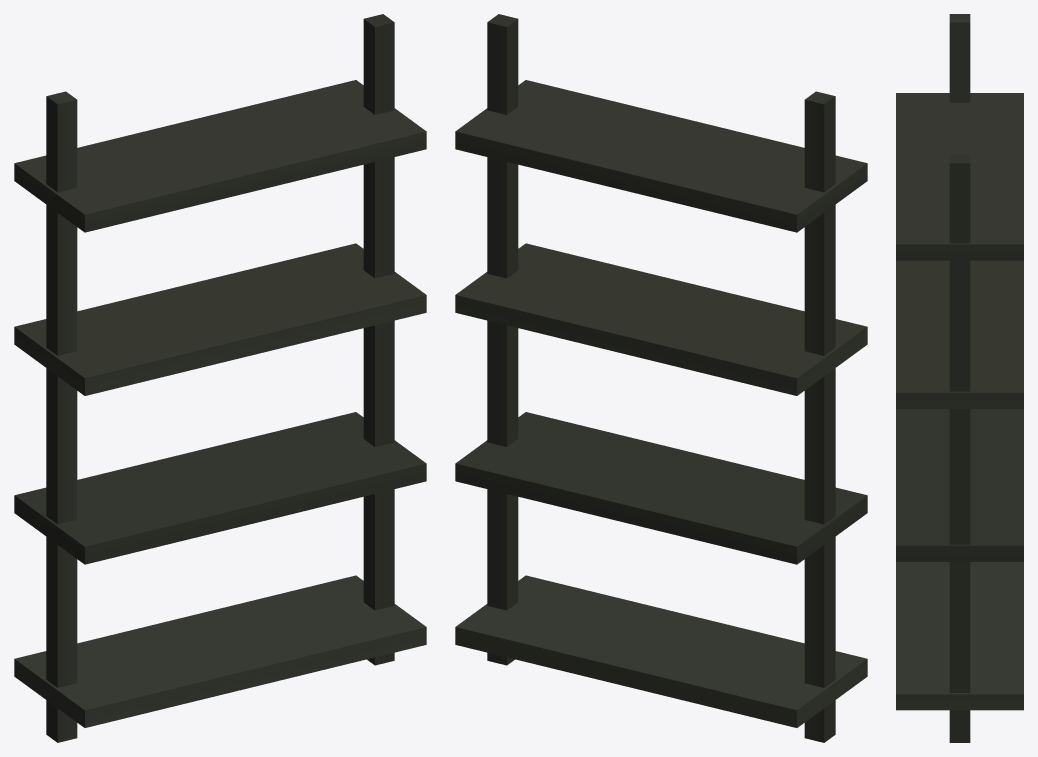
Rendered from prop_shelving_rack_heavy_a.glb.
3 renders of one model, left to right at view 1: azimuth 30°, elevation 25°; view 2: azimuth 150°, elevation 25°; view 3: azimuth 270°, elevation 25°, orthographic. The views are drawn at different scales.
Parts seen in each view (by area): view 1: prop_shelving_rack_heavy_a; view 2: prop_shelving_rack_heavy_a; view 3: prop_shelving_rack_heavy_a.
Part boxes in pixels (x1,y1,x2,y2): prop_shelving_rack_heavy_a: (14, 14, 426, 742); prop_shelving_rack_heavy_a: (455, 14, 867, 742); prop_shelving_rack_heavy_a: (896, 14, 1023, 742).
Bounding box in the file's own units: 1.4 × 2.5 × 0.5.
1 material, 1 textured.
